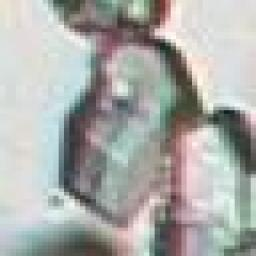crystals: (49, 28, 210, 230)
